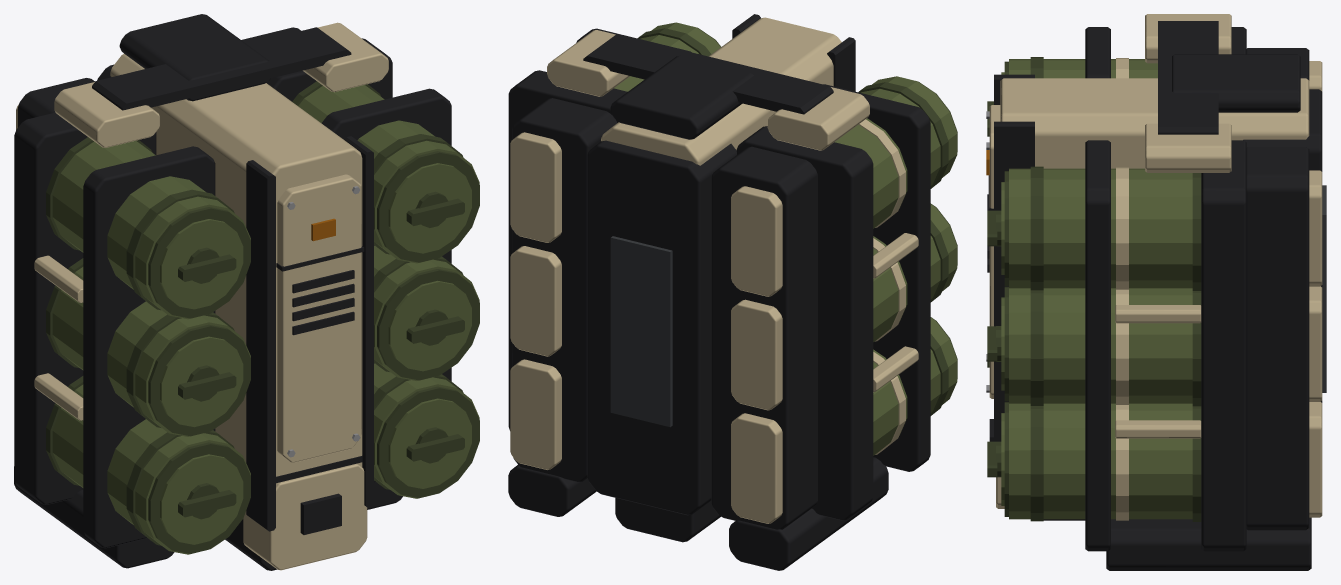
File: backpack_ammo.glb
3 views of the same model, side by side, from view 1: azimuth 30°, elevation 25°; view 2: azimuth 150°, elevation 25°; view 3: azimuth 270°, elevation 25° (orthographic). The views are drawn at different scales.
Visible parts, largest first — view 1: SpinePlate, Spine, ClampL1, ClampL0, SpineRailL, CanBody1, SpineLow, TopRail, CanBody5, CanBody3, SpineTop, CanBody2 (+43 smaller); view 2: MountPanel, MountBackingL, ClampL0, MountBackingR, ClampL1, MountPlate, Spine, SpineTop, TopRail, MountBlockL2, MountBlockR1, MountBlockL0 (+23 smaller); view 3: MountBackingR, ClampR0, CanBody2, CanBody6, CanBody4, Spine, ClampR1, FootR, SpineTop, TopRail, SpineRailR, TopCapR (+25 smaller).
Boxes of the visible parts, x1,y1,x2,y2 form: SpinePlate: [277, 174, 361, 462]; Spine: [110, 54, 362, 484]; ClampL1: [83, 146, 215, 548]; ClampL0: [14, 112, 156, 504]; SpineRailL: [246, 160, 275, 531]; CanBody1: [52, 140, 250, 319]; SpineLow: [243, 464, 367, 570]; TopRail: [92, 27, 351, 110]; CanBody5: [52, 384, 250, 554]; CanBody3: [52, 267, 250, 436]; SpineTop: [119, 14, 270, 101]; CanBody2: [298, 85, 479, 263]; MountPanel: [587, 140, 736, 515]; MountBackingL: [711, 146, 817, 529]; ClampL0: [736, 126, 873, 520]; MountBackingR: [512, 98, 617, 482]; ClampL1: [823, 84, 930, 471]; MountPlate: [610, 236, 672, 427]; Spine: [601, 17, 841, 165]; SpineTop: [610, 55, 753, 139]; TopRail: [583, 34, 833, 114]; MountBlockL2: [731, 413, 782, 523]; MountBlockR1: [510, 246, 561, 356]; MountBlockL0: [731, 186, 782, 296]; MountBackingR: [1246, 147, 1309, 530]; ClampR0: [1201, 140, 1246, 551]; CanBody2: [1009, 168, 1192, 288]; CanBody6: [1009, 403, 1192, 519]; CanBody4: [1009, 288, 1192, 403]; Spine: [1000, 78, 1309, 168]; ClampR1: [1085, 140, 1110, 551]; FootR: [1106, 517, 1311, 570]; SpineTop: [1172, 54, 1300, 112]; TopRail: [1158, 21, 1218, 134]; SpineRailR: [994, 121, 1034, 441]; TopCapR: [1145, 123, 1231, 172].
Size of the model in its own units: 1.9 by 2.22 by 1.58.
